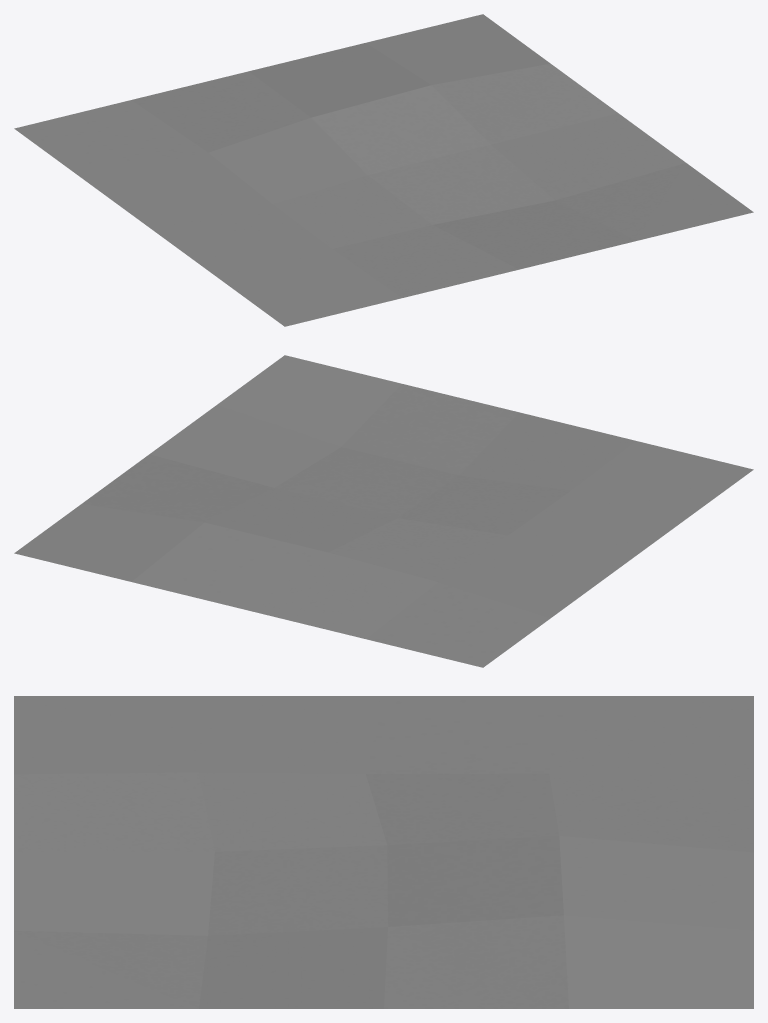
The model's file is STREETold.glb.
The picture shows the model from 3 angles, top to bottom: view 1: azimuth 30°, elevation 25°; view 2: azimuth 150°, elevation 25°; view 3: azimuth 270°, elevation 25°; orthographic projection. The views are drawn at different scales.
Visible parts, largest first — view 1: Plane; view 2: Plane; view 3: Plane.
Part boxes in pixels (x1=…): Plane: x1=14, y1=14, x2=753, y2=326; Plane: x1=14, y1=355, x2=753, y2=667; Plane: x1=14, y1=696, x2=753, y2=1008.
Size of the model in its own units: 2 by 0.0746 by 2.
1 material, 1 textured.
